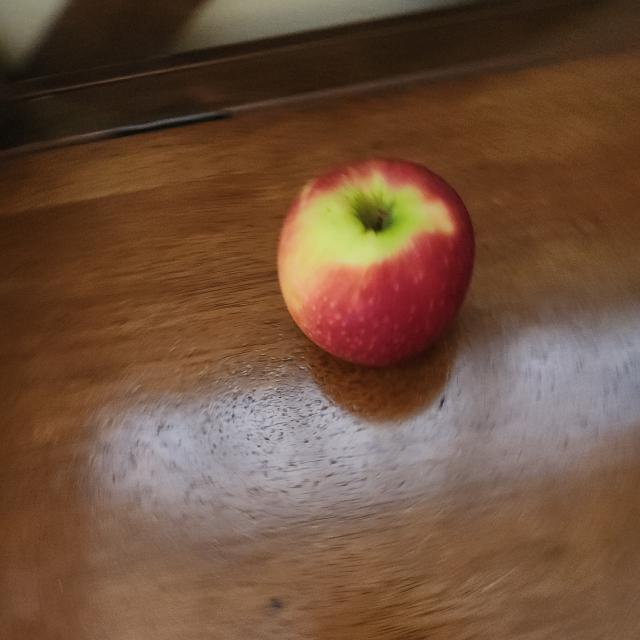apple: (276, 152, 482, 383)
